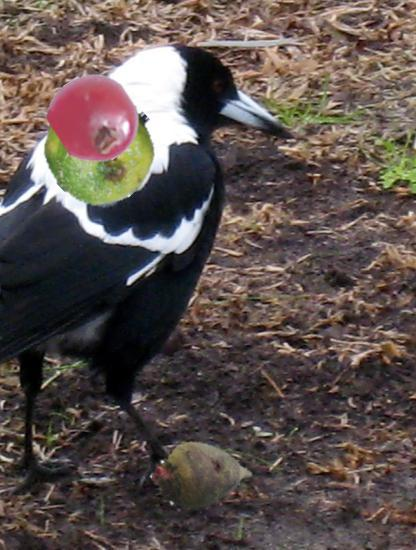Beetroot: (149, 422, 254, 527)
Limes: (44, 92, 156, 204)
Redcurrant: (50, 74, 140, 164)
